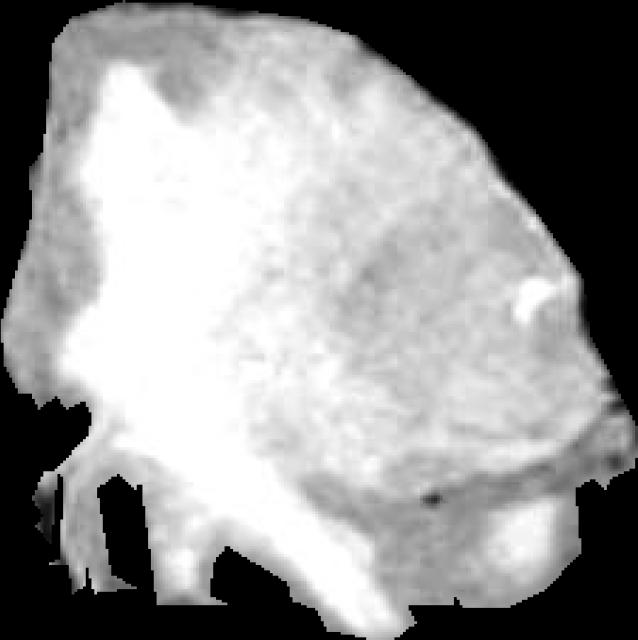tumor_less_chance: (1, 0, 638, 640)
